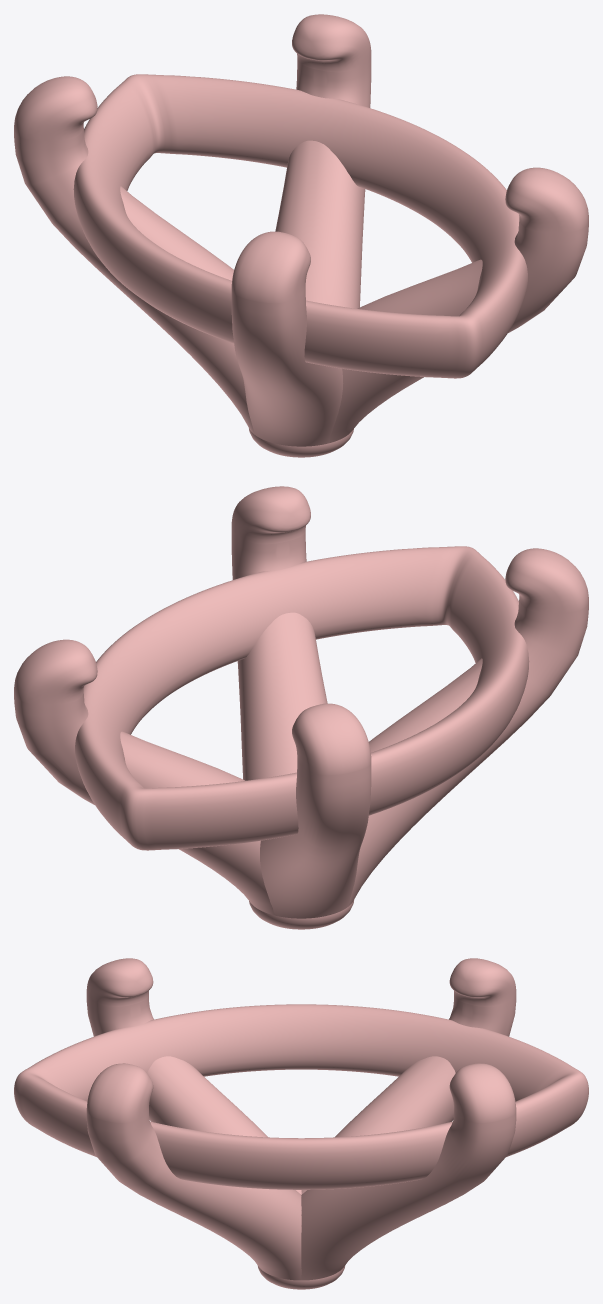
The model's file is MARQUISE.glb.
3 views of the same model, one above another, from view 1: azimuth 30°, elevation 25°; view 2: azimuth 150°, elevation 25°; view 3: azimuth 270°, elevation 25° (orthographic). The views are drawn at different scales.
Parts seen in each view (by area): view 1: marquise; view 2: marquise; view 3: marquise.
Part boxes in pixels (x1,y1,x2,y2): marquise: [14, 14, 588, 457]; marquise: [14, 486, 588, 929]; marquise: [14, 958, 588, 1289].
Size of the model in its own units: 4.98 by 4.3 by 8.44.
